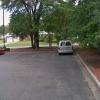Tree: (13, 2, 62, 49)
